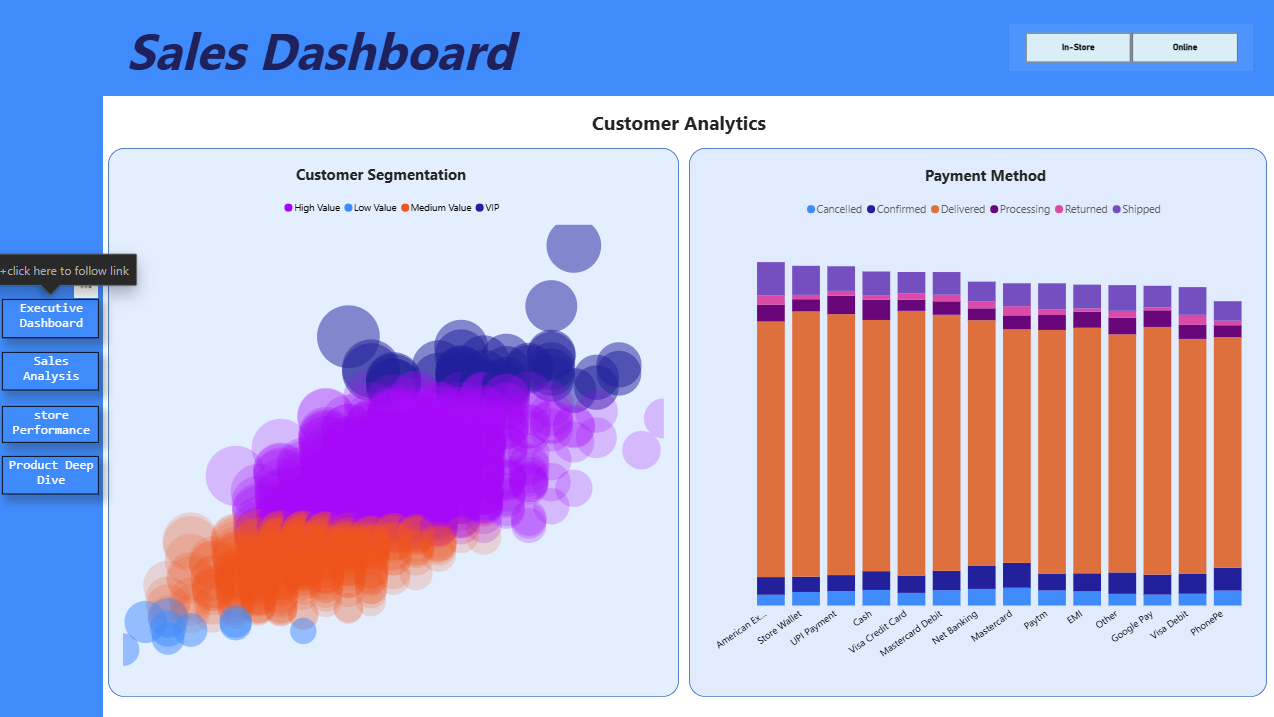

The dashboard page shown, as its layout file describes it:
{"tool":"powerbi","page":{"name":"Customer Analytics","canvas":[1600,900],"ordinal":3},"visuals":[{"type":"shape","box":[0,0,130,900],"z":0},{"type":"shape","box":[136.2,185,713.8,686.2],"z":1000},{"type":"shape","box":[130,0,1470,120],"z":2000},{"type":"card","fields":{"Values":["dim_customer.Title Customer Segmentation"]},"box":[305,200,345,40],"z":3000},{"type":"slicer","fields":{"Values":["dim_order.channel"]},"box":[1262.6,30.5,305,59],"z":4000},{"type":"shape","box":[862.5,185,722.5,686.2],"z":5000},{"type":"card","fields":{"Values":["dim_payment_method.Title Payment Method"]},"box":[1061.2,200,343.8,41.2],"z":6000},{"type":"scatterChart","fields":{"X":["dim_customer.Customer Order Count"],"Y":["dim_customer.Customer Lifetime Value"],"Size":["fact_sales.Avg  Order Value"],"Category":["dim_customer.customer_code"],"Series":["dim_customer.Customer Segment"]},"box":[150,240,686.2,606.2],"z":7000},{"type":"columnChart","fields":{"Category":["dim_payment_method.payment_method_name"],"Y":["fact_sales.Total Revenue"],"Series":["dim_order.order_status"]},"box":[890,241.2,686.2,605],"z":8000},{"type":"card","fields":{"Values":["dim_date.Main Title"]},"box":[136.2,25,530,70],"z":9000},{"type":"actionButton","title":"Executive Dashboard","box":[3.8,373.8,121.2,48.8],"z":10000},{"type":"actionButton","title":"Sales Analysis","box":[3.8,440,121.2,47.5],"z":11000},{"type":"actionButton","title":"store Performance","box":[3.8,507.5,121.2,46.2],"z":12000},{"type":"actionButton","title":"Product Deep Dive","box":[3.8,570,121.2,47.5],"z":13000},{"type":"card","fields":{"Values":["dim_customer.title Customer Analytics"]},"box":[710,125,280,60],"z":14000}]}

Visuals, with their boxes on the page's 1600x900 design canvas (x1, y1, x2, y2). These are canvas units, not pixel positions in the 1274x717 screenshot, which may show the page scaled, cropped or inside an application window:
shape: left=0, top=0, right=130, bottom=900
shape: left=136, top=185, right=850, bottom=871
shape: left=130, top=0, right=1600, bottom=120
card - dim_customer.Title Customer Segmentation: left=305, top=200, right=650, bottom=240
slicer - dim_order.channel: left=1263, top=30, right=1568, bottom=90
shape: left=862, top=185, right=1585, bottom=871
card - dim_payment_method.Title Payment Method: left=1061, top=200, right=1405, bottom=241
scatterChart - dim_customer.Customer Order Count x dim_customer.Customer Lifetime Value: left=150, top=240, right=836, bottom=846
columnChart - dim_payment_method.payment_method_name x fact_sales.Total Revenue: left=890, top=241, right=1576, bottom=846
card - dim_date.Main Title: left=136, top=25, right=666, bottom=95
"Executive Dashboard" actionButton: left=4, top=374, right=125, bottom=423
"Sales Analysis" actionButton: left=4, top=440, right=125, bottom=488
"store Performance" actionButton: left=4, top=508, right=125, bottom=554
"Product Deep Dive" actionButton: left=4, top=570, right=125, bottom=618
card - dim_customer.title Customer Analytics: left=710, top=125, right=990, bottom=185
